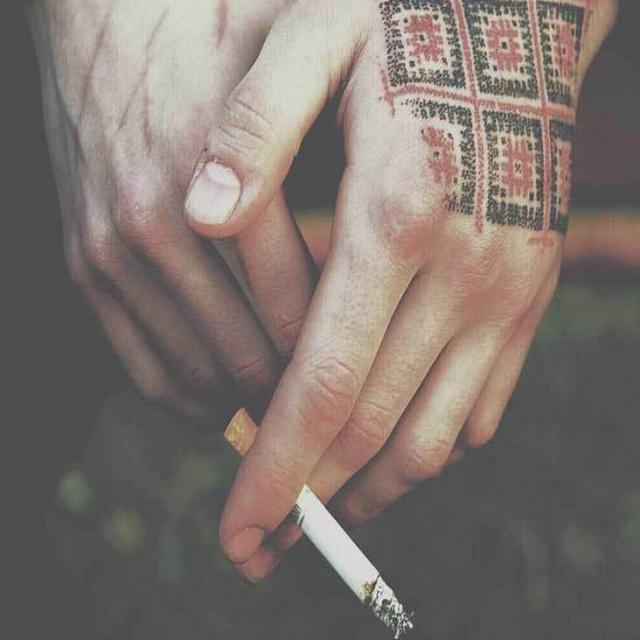cigarette: (228, 407, 422, 639)
